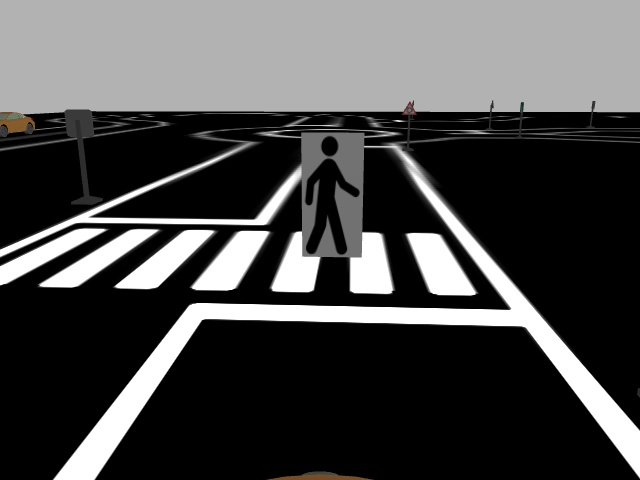pedestrian: (299, 128, 366, 259)
